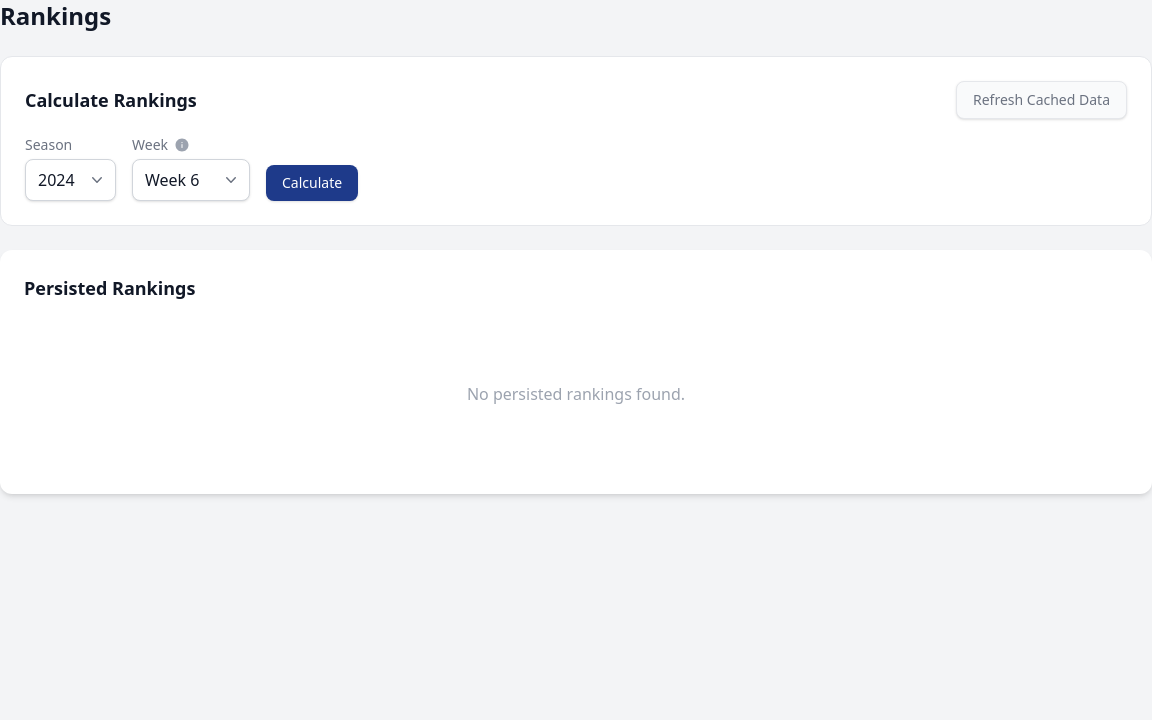
Test case: RankingsSnapshotsPage › shows error message on preview publish failure
Click the button "Calculate". click: (312, 183)
box: [266, 165, 358, 201]
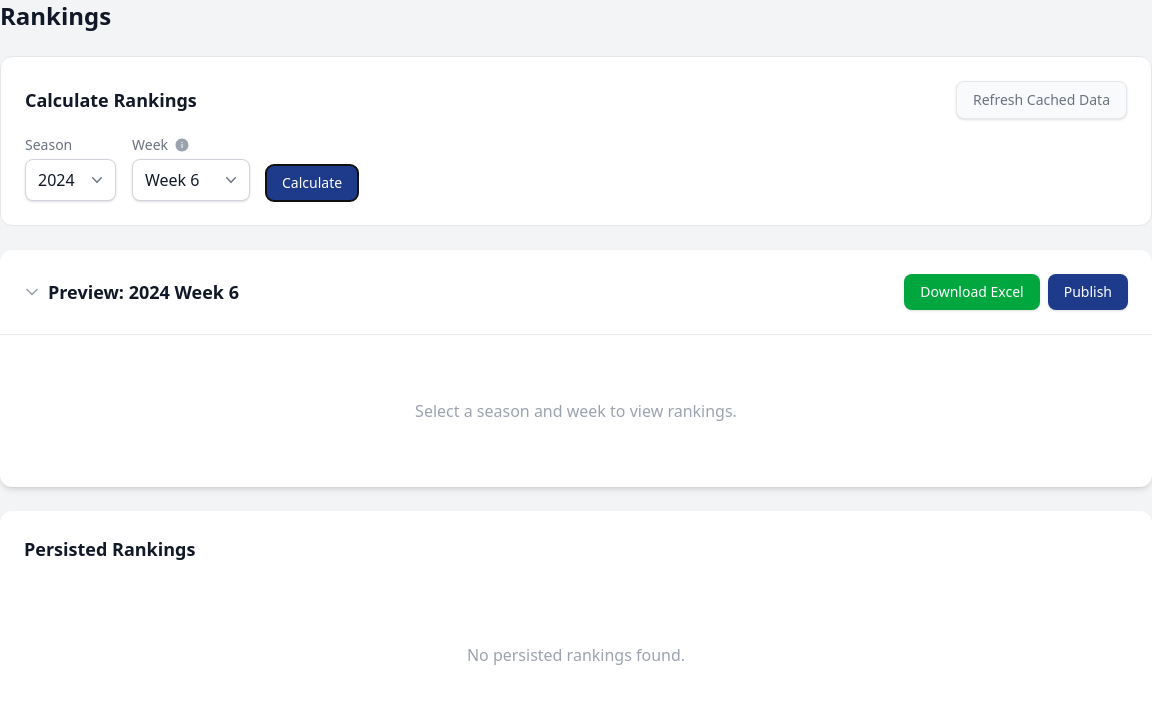
Expected: the button "Preview: 2024 Week 6" is shown, [24, 278, 239, 306]
Click the button "Publish". click: (1088, 292)
box: [1048, 274, 1128, 310]
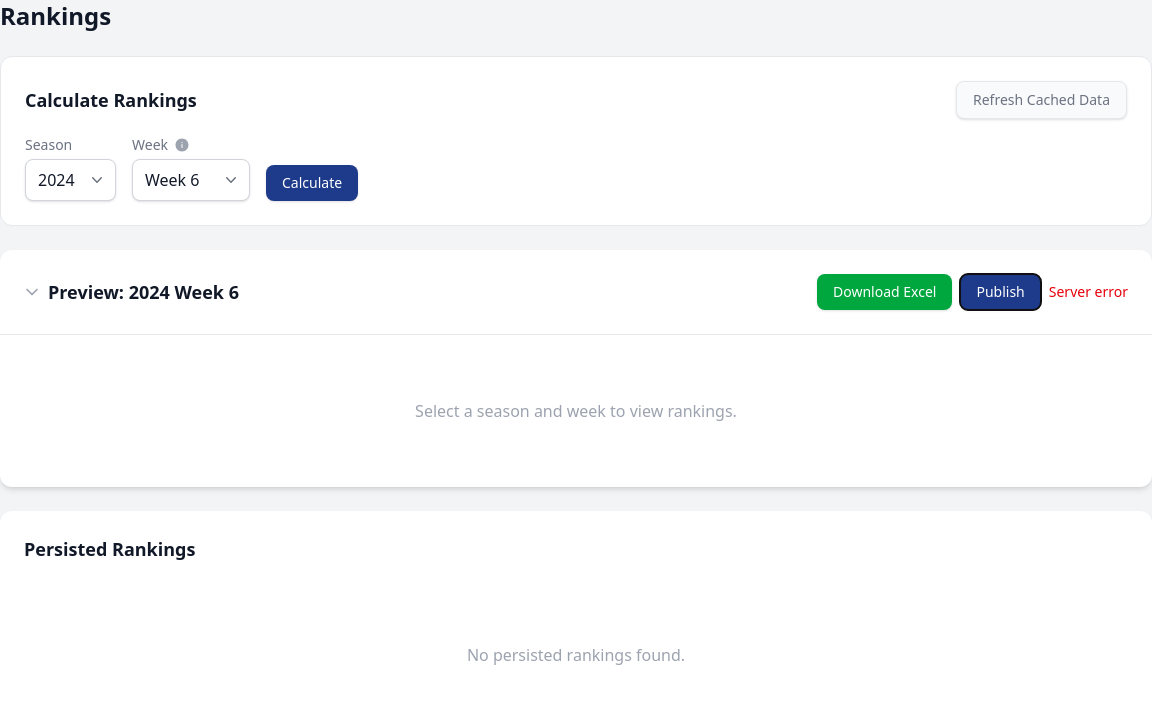
Expected: the text "Server error" is shown, [1049, 282, 1128, 302]
